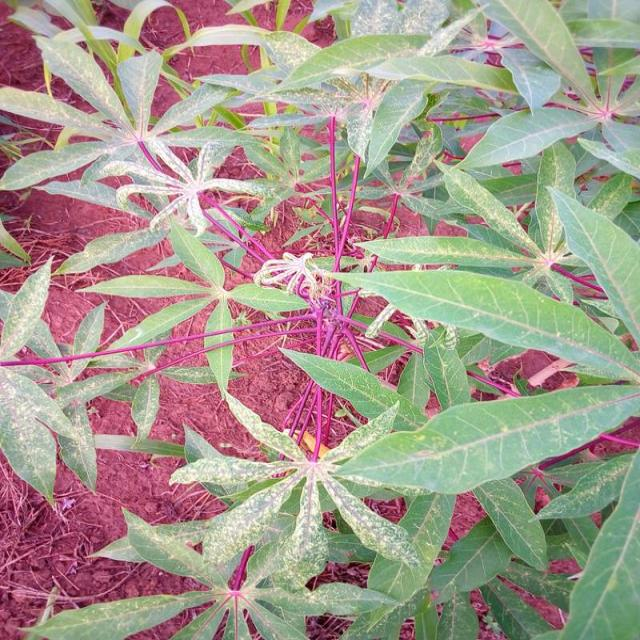cassava leaf: (2, 0, 640, 638), (332, 381, 640, 496)
